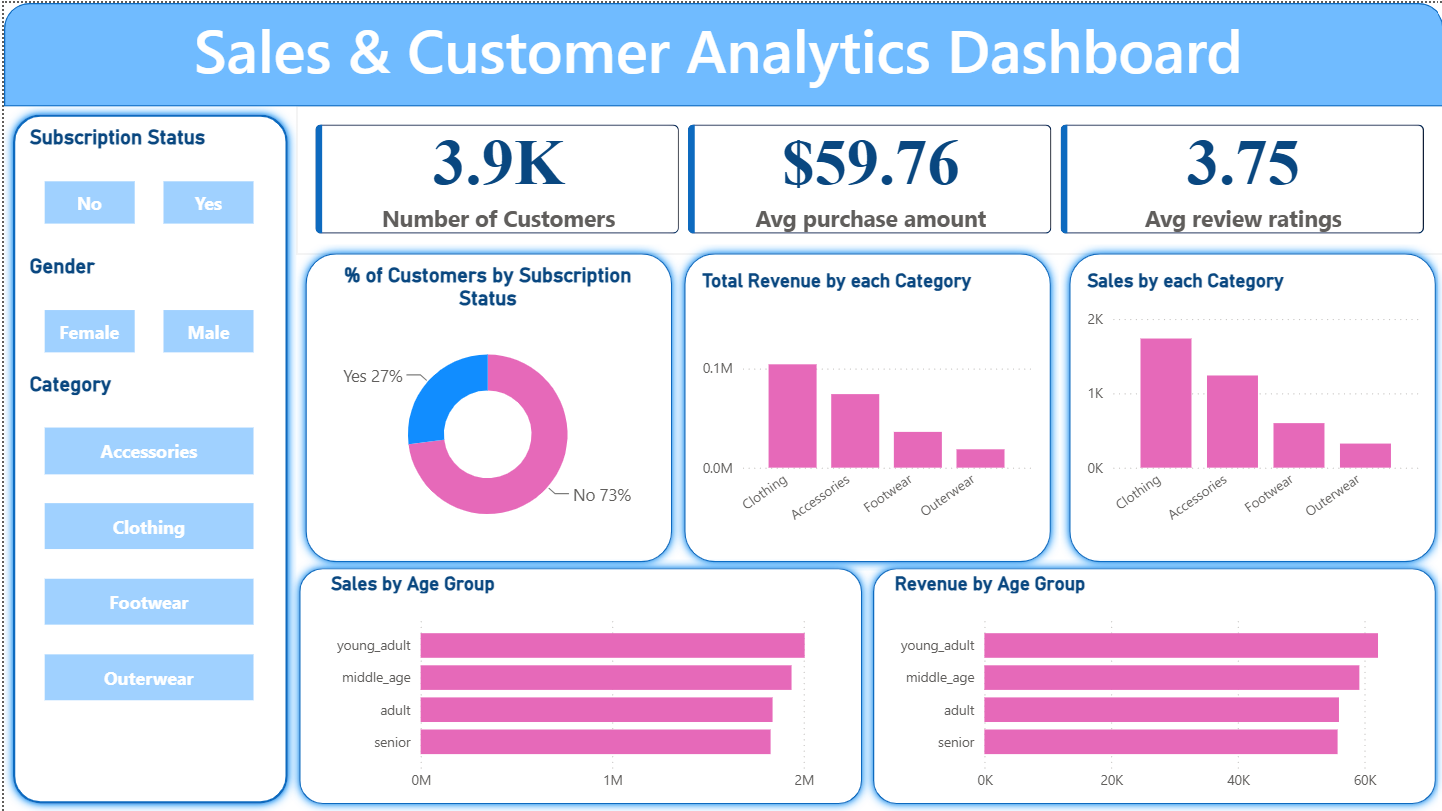

This screenshot's page, from the dashboard's own definition file:
{"tool":"powerbi","page":{"name":"Page 1","canvas":[1280,720],"ordinal":0},"visuals":[{"type":"cardVisual","fields":{"Data":["public customer.Number of Customers","public customer.Avg purchase amount","public customer.Avg review ratings"]},"box":[260.2,91.3,1020.1,131.5],"z":0},{"type":"shape","box":[0,0,1280.3,91.9],"z":1000},{"type":"textbox","box":[91.9,0,1085.4,91.9],"z":2000},{"type":"shape","box":[260.2,214.5,341.9,290.7],"z":3000},{"type":"donutChart","title":"% of Customers by Subscription Status","fields":{"Category":["public customer.subscription_status"],"Y":["public customer.Number of Customers"]},"box":[274,231.1,311.4,251.9],"z":4000},{"type":"shape","box":[938.4,214.5,341.9,290.7],"z":5000},{"type":"clusteredColumnChart","title":"Sales by each Category","fields":{"Category":["public customer.category"],"Y":["CountNonNull(public customer.customer_id)"]},"box":[957.8,236.7,305.9,246.4],"z":6000},{"type":"shape","box":[596.5,214.5,341.9,290.7],"z":7000},{"type":"clusteredColumnChart","title":"Total Revenue by each Category","fields":{"Y":["Sum(public customer.purchase_amount)"],"Category":["public customer.category"]},"box":[615.9,236.7,303.1,246.4],"z":8000},{"type":"shape","box":[0,91.3,260.2,628.4],"z":8500},{"type":"shape","box":[254.7,494.1,516.3,225.6],"z":9000},{"type":"shape","box":[764,494.1,516.3,225.6],"z":10000},{"type":"clusteredBarChart","title":"Sales by Age Group","fields":{"Category":["public customer.age_group"],"Y":["Sum(public customer.customer_id)"]},"box":[285.1,505.2,524.6,203.5],"z":11000},{"type":"clusteredBarChart","title":"Revenue by Age Group","fields":{"Category":["public customer.age_group"],"Y":["Sum(public customer.purchase_amount)"]},"box":[786.2,505.2,494.1,203.5],"z":13000},{"type":"advancedSlicerVisual","title":"Subscription Status","fields":{"Values":["public customer.subscription_status"]},"box":[18,109.3,222.8,105.2],"z":14000},{"type":"advancedSlicerVisual","title":"Gender","fields":{"Values":["public customer.gender"]},"box":[18,222.8,222.8,105.2],"z":14001},{"type":"advancedSlicerVisual","title":"Category","fields":{"Values":["public customer.category"]},"box":[18,328,222.8,311.4],"z":14002}]}

Visuals, with their boxes in screenshot pixels (x1, y1, x2, y2), scaled from the page's 1280x720 canvas onto the 1442x811 screenshot:
cardVisual - public customer.Number of Customers x public customer.Avg purchase amount: locate(293, 103, 1441, 251)
shape: locate(0, 0, 1441, 104)
textbox: locate(104, 0, 1326, 104)
shape: locate(293, 242, 678, 569)
"% of Customers by Subscription Status" donutChart: locate(309, 260, 659, 544)
shape: locate(1057, 242, 1441, 569)
"Sales by each Category" clusteredColumnChart: locate(1079, 267, 1424, 544)
shape: locate(672, 242, 1057, 569)
"Total Revenue by each Category" clusteredColumnChart: locate(694, 267, 1035, 544)
shape: locate(0, 103, 293, 810)
shape: locate(287, 557, 869, 810)
shape: locate(861, 557, 1441, 810)
"Sales by Age Group" clusteredBarChart: locate(321, 569, 912, 798)
"Revenue by Age Group" clusteredBarChart: locate(886, 569, 1441, 798)
"Subscription Status" advancedSlicerVisual: locate(20, 123, 271, 242)
"Gender" advancedSlicerVisual: locate(20, 251, 271, 369)
"Category" advancedSlicerVisual: locate(20, 369, 271, 720)
